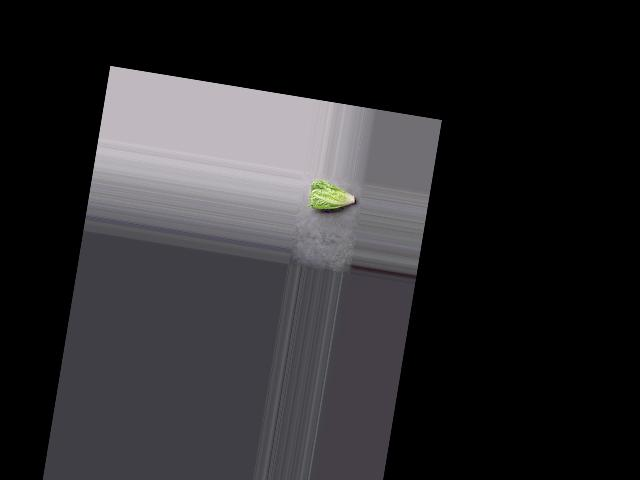lettuce: (307, 177, 360, 217)
